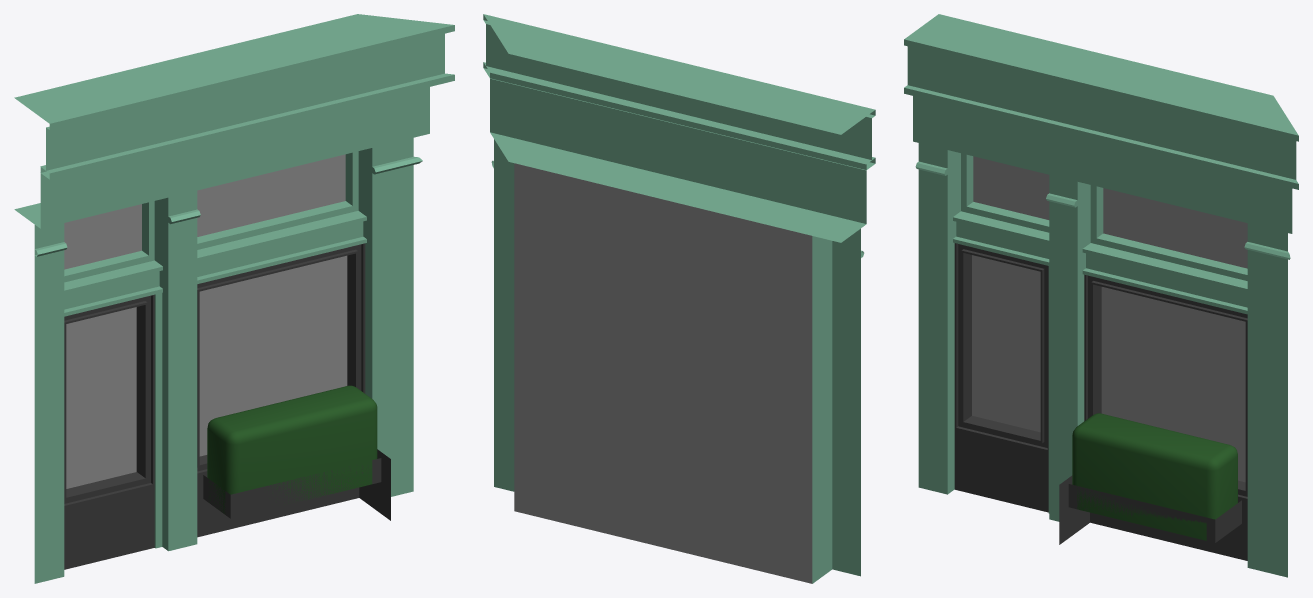
File: object_B3_Ground_floor_corner.glb
3 renders of one model, left to right at view 1: azimuth 30°, elevation 25°; view 2: azimuth 150°, elevation 25°; view 3: azimuth 330°, elevation 25°, orthographic. The views are drawn at different scales.
Visible parts, largest first — view 1: B3 Ground floor corner; view 2: B3 Ground floor corner; view 3: B3 Ground floor corner.
Boxes of the visible parts, box(x1,y1,x2,y2) form: B3 Ground floor corner: box(14, 14, 454, 583); B3 Ground floor corner: box(483, 14, 875, 583); B3 Ground floor corner: box(904, 14, 1298, 577).
Bounding box in the file's own units: 3.42 × 3.8 × 0.6601.
